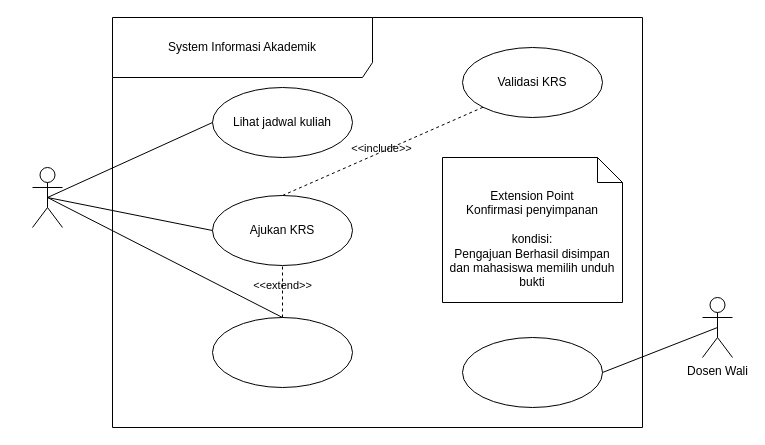
The diagram is 765 pixels wide and 445 high, and some of its shapes have lost their labels. Here are the shapes that lost their labels. From the top down, the centre of each, then its label:
At (x=47, y=197): "Mahasiswa".
At (x=282, y=352): "Unduh Bukti Pinjaman KRS".
At (x=532, y=372): "Use Case".
